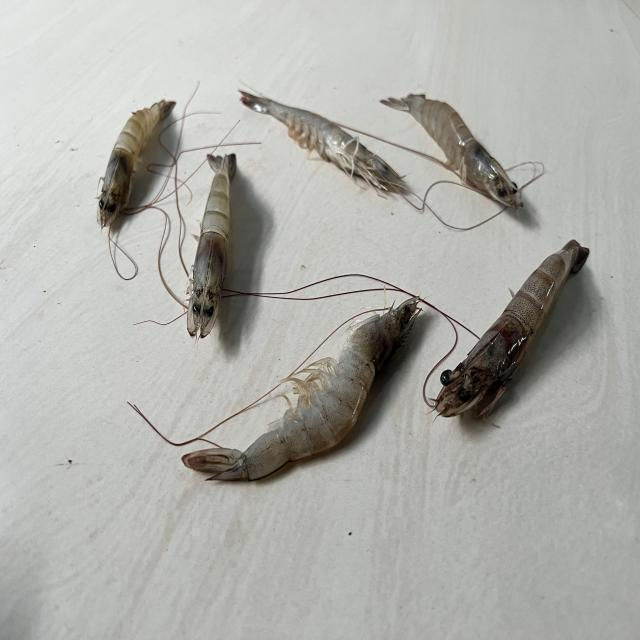shrimp: (181, 298, 420, 481), (435, 240, 590, 417), (239, 89, 405, 190), (381, 93, 524, 210), (96, 99, 175, 227), (187, 153, 236, 338)
